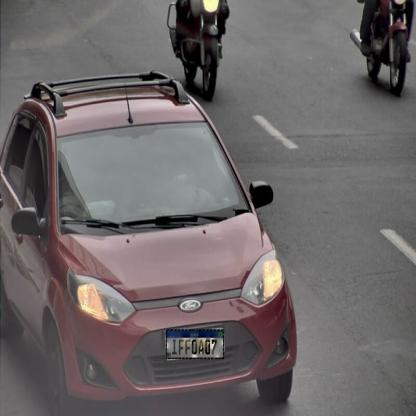PlacaM: (166, 329, 224, 359)
